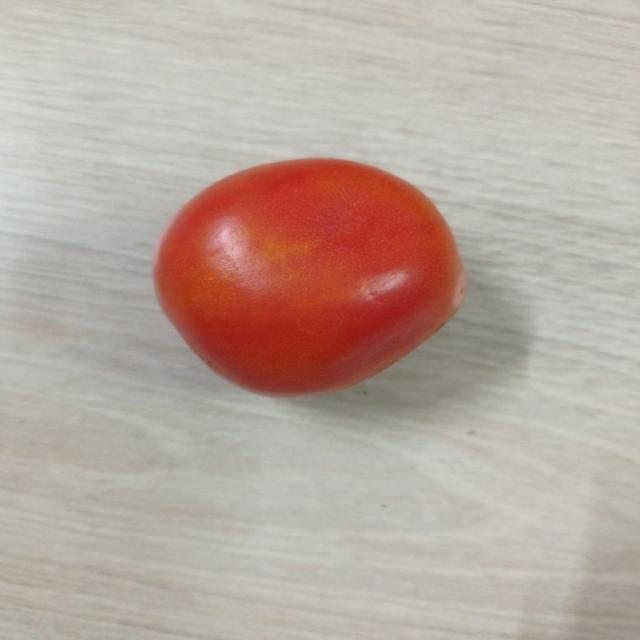Tomato: (148, 148, 474, 400)
